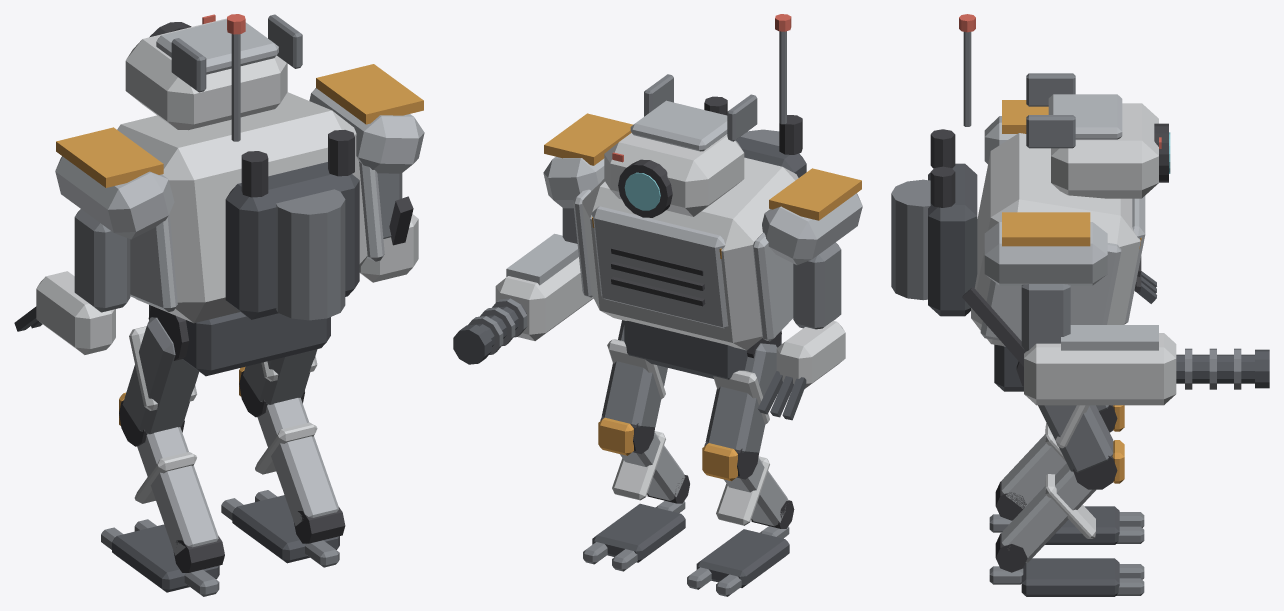
Rendered from walker.glb.
The picture shows the model from 3 angles, left to right: view 1: azimuth 30°, elevation 25°; view 2: azimuth 150°, elevation 25°; view 3: azimuth 270°, elevation 25°; orthographic projection. The views are drawn at different scales.
Visible parts, largest first — view 1: body, leg_l, leg_r; view 2: body, leg_l, leg_r, glow; view 3: body, leg_r, leg_l.
Boxes of the visible parts, x1,y1,x2,y2 form: body: [14, 14, 424, 376]; leg_l: [101, 317, 224, 596]; leg_r: [221, 349, 345, 567]; body: [453, 31, 862, 420]; leg_l: [687, 343, 794, 596]; leg_r: [583, 320, 689, 571]; glow: [624, 172, 660, 210]; body: [891, 32, 1269, 405]; leg_r: [989, 405, 1144, 596]; leg_l: [989, 405, 1144, 544].
Bounding box in the file's own units: 1.41 × 2.35 × 1.54.
